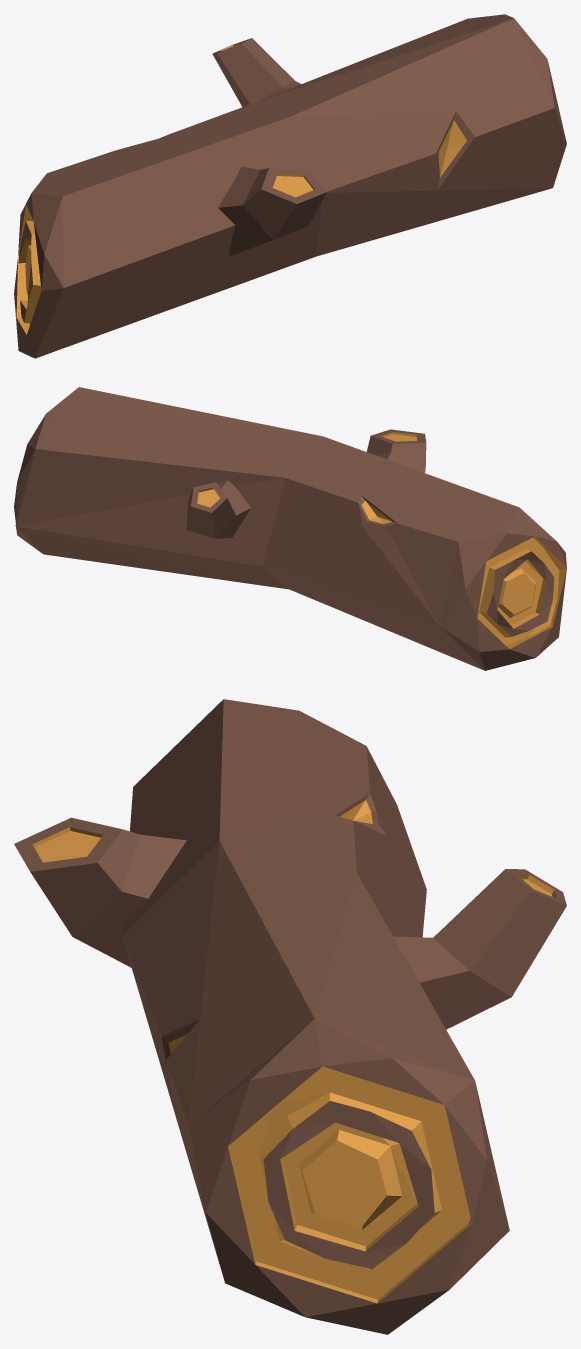
File: scene_C50GaT0mZn.glb
3 renders of one model, top to bottom at view 1: azimuth 30°, elevation 25°; view 2: azimuth 150°, elevation 25°; view 3: azimuth 270°, elevation 25°, orthographic. The views are drawn at different scales.
Parts seen in each view (by area): view 1: group1305922676; view 2: group1305922676; view 3: group1305922676.
Part boxes in pixels (left/top/right/bottom): group1305922676: left=14, top=14, right=566, bottom=358; group1305922676: left=14, top=387, right=566, bottom=670; group1305922676: left=14, top=699, right=566, bottom=1334.
Size of the model in its own units: 2.68 by 0.9669 by 1.41.
